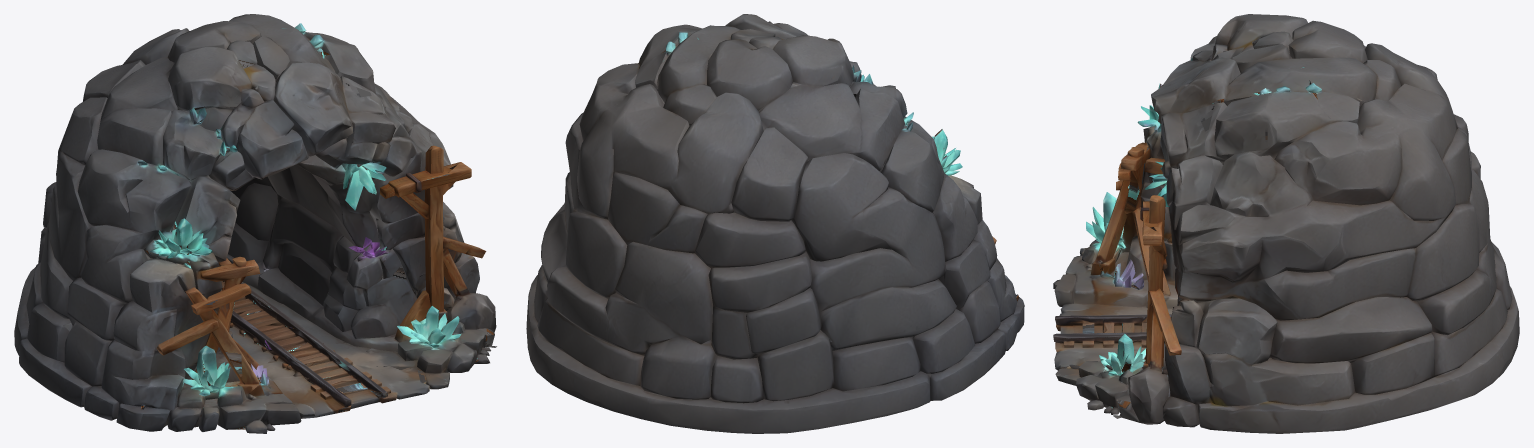
Rendered from cave-cartoon-mobile-decimated.glb.
3 views of the same model, side by side, from view 1: azimuth 30°, elevation 25°; view 2: azimuth 150°, elevation 25°; view 3: azimuth 270°, elevation 25° (orthographic). The views are drawn at different scales.
Visible parts, largest first — view 1: model; view 2: model; view 3: model.
Boxes of the visible parts, bbox=[...] form: model: bbox=[14, 14, 496, 433]; model: bbox=[526, 14, 1024, 433]; model: bbox=[1053, 14, 1519, 433].
Size of the model in its own units: 1.9 by 1.29 by 1.82.
1 material, 1 textured.
